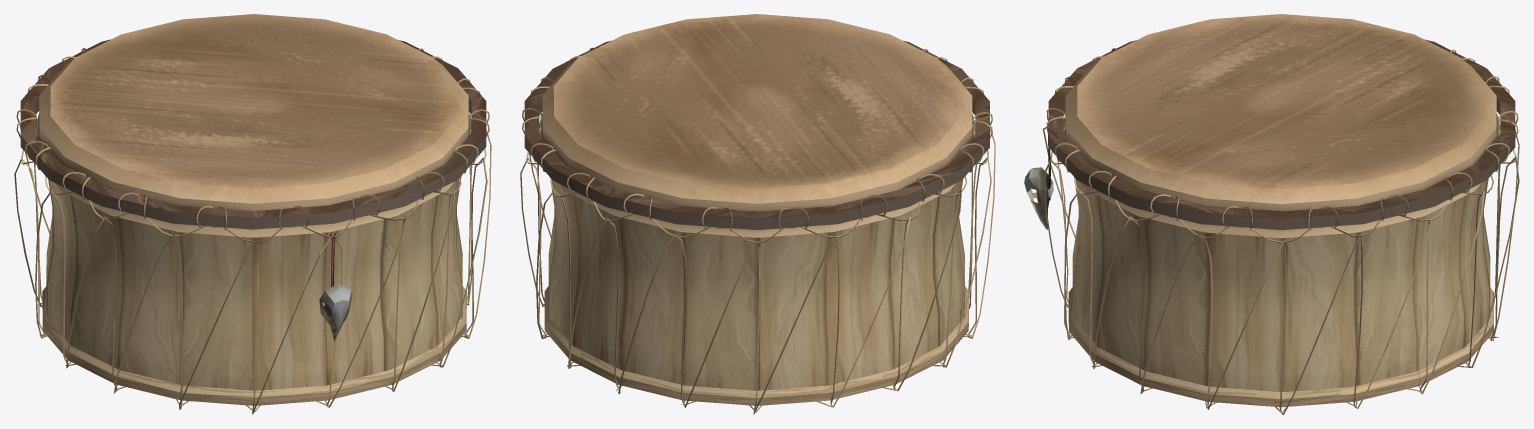
The picture shows the model from 3 angles, left to right: view 1: azimuth 30°, elevation 25°; view 2: azimuth 150°, elevation 25°; view 3: azimuth 270°, elevation 25°; orthographic projection.
Parts seen in each view (by area): view 1: Drum; view 2: Drum; view 3: Drum.
Boxes of the visible parts, <box> form: Drum: <box>14,14,491,414</box>; Drum: <box>520,14,995,414</box>; Drum: <box>1024,14,1519,414</box>.
Size of the model in its own units: 0.4531 by 0.2333 by 0.4672.
1 material, 1 textured.
